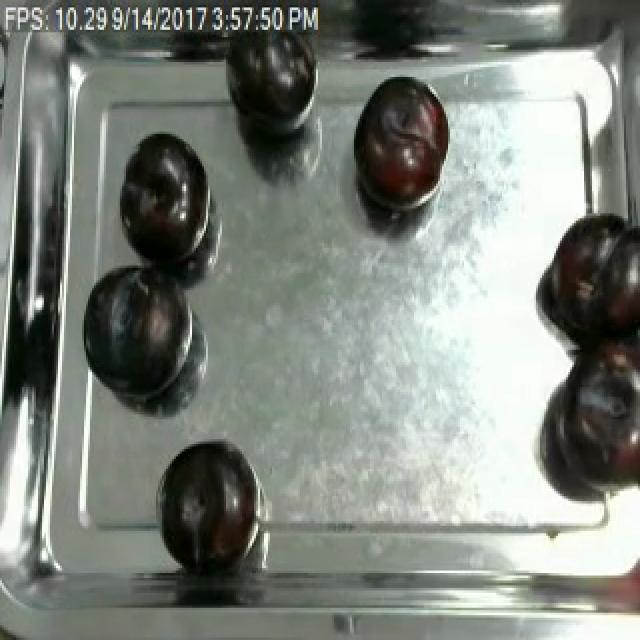Fruit: (76, 256, 194, 404), (344, 69, 458, 221), (114, 121, 216, 278), (154, 432, 268, 568), (536, 206, 640, 355)
